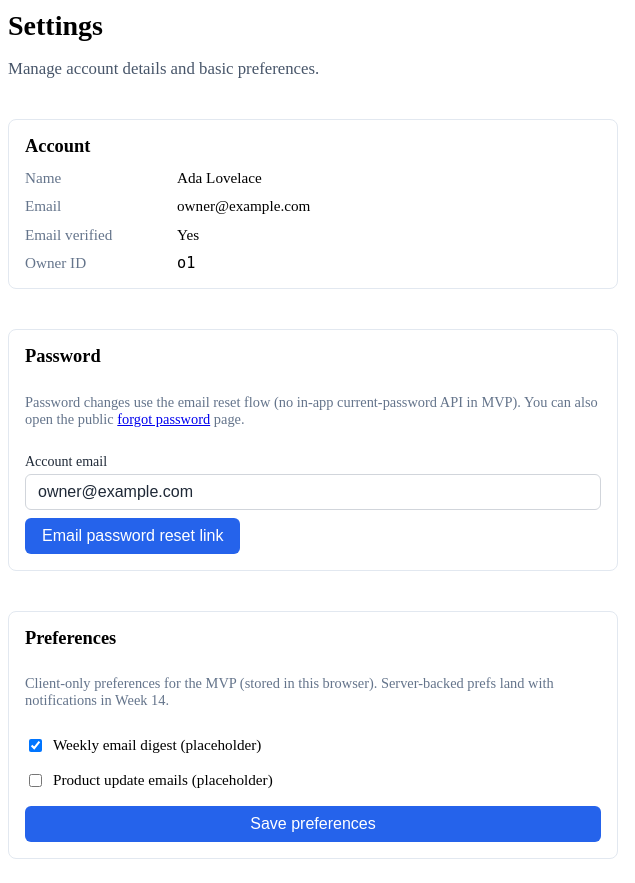
SettingsPage › shows account info and requests password reset
This screenshot has width=635, height=883.
Check: the text "owner@example.com" is shown, box [177,197,310,214]
Click the button "Email password reset link" at (133, 536), box [25,518,240,554]
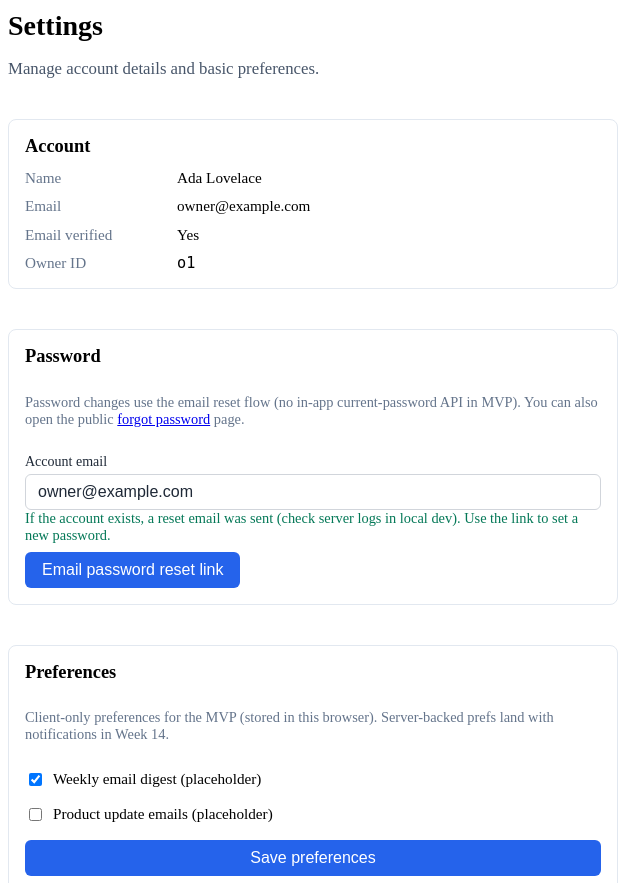
Check: the text "reset email was sent" is shown, box [25,510,578,543]
